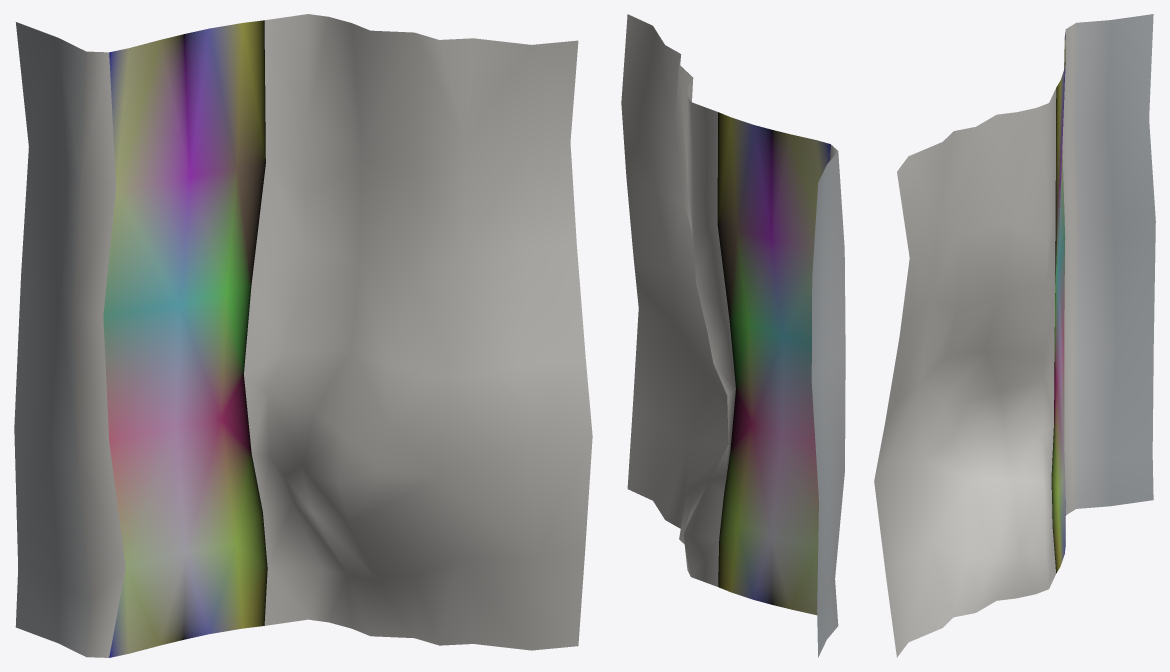
File: Volcano_StraightA_lod2.glb
3 renders of one model, left to right at view 1: azimuth 30°, elevation 25°; view 2: azimuth 150°, elevation 25°; view 3: azimuth 270°, elevation 25°, orthographic. The views are drawn at different scales.
Parts seen in each view (by area): view 1: MeshNode_0, MeshNode_1; view 2: MeshNode_0, MeshNode_1; view 3: MeshNode_0, MeshNode_1.
Part boxes in pixels (<box>): MeshNode_0: <box>14,14,592,657</box>; MeshNode_1: <box>103,20,267,657</box>; MeshNode_0: <box>621,14,845,657</box>; MeshNode_1: <box>717,112,830,615</box>; MeshNode_0: <box>874,14,1155,657</box>; MeshNode_1: <box>1051,32,1065,573</box>.
Bounding box in the file's own units: 89.37 × 128 × 67.22.
